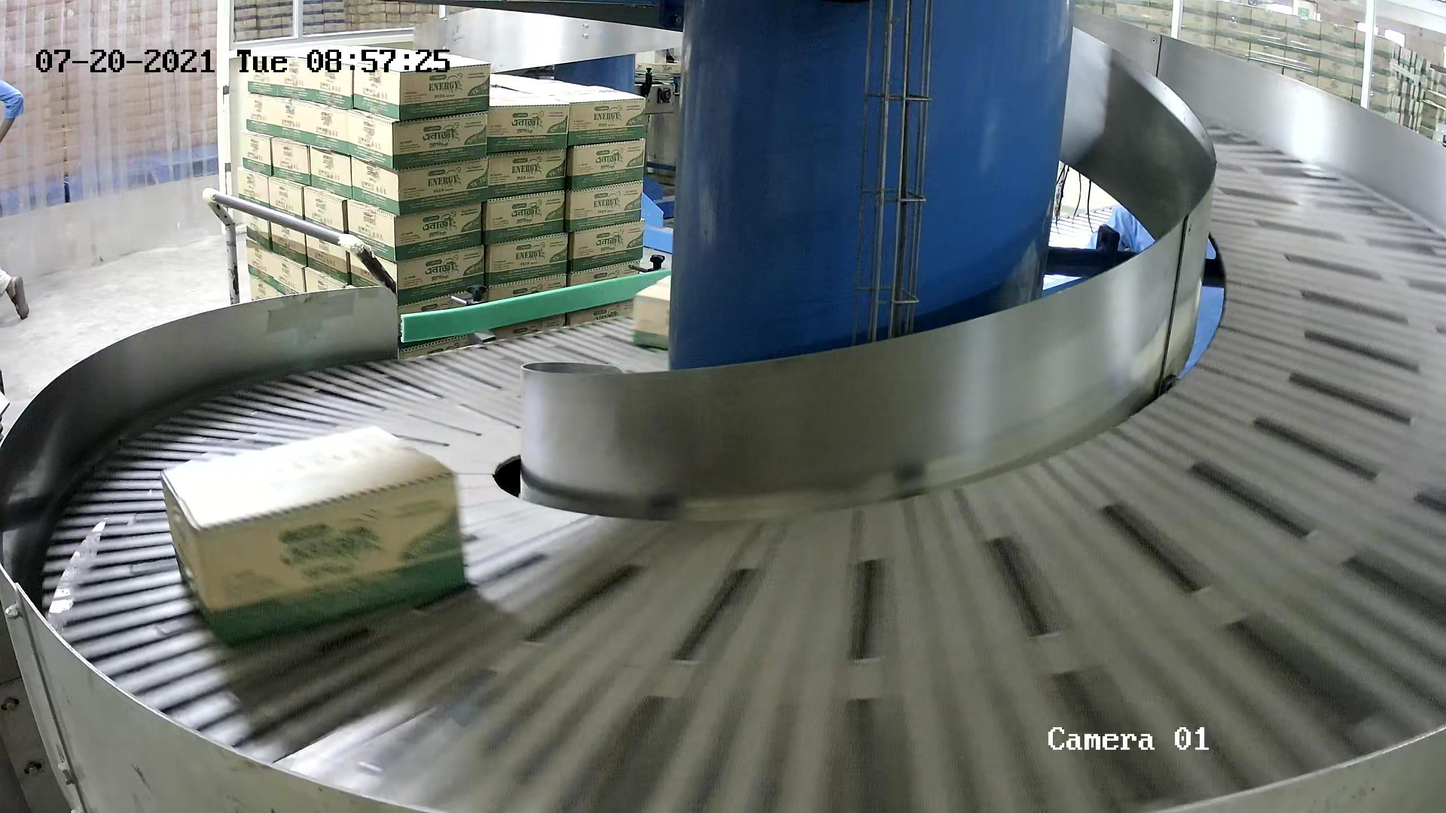Box: (162, 422, 469, 645), (635, 255, 793, 367)
